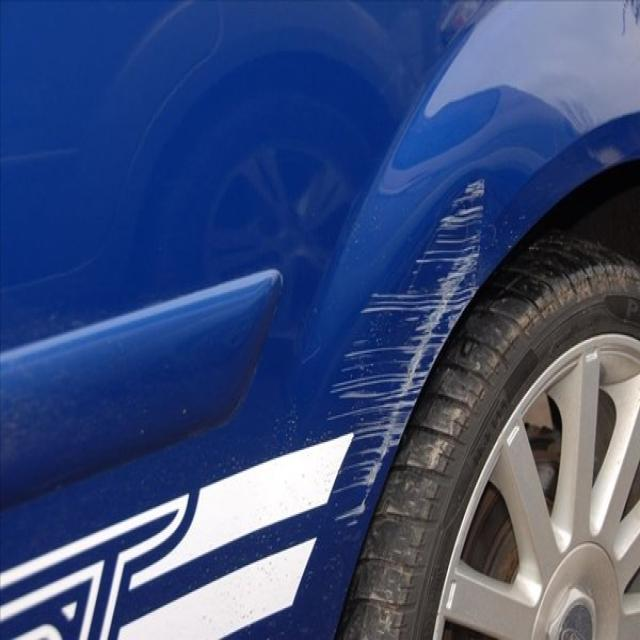scratch: (319, 173, 489, 537)
